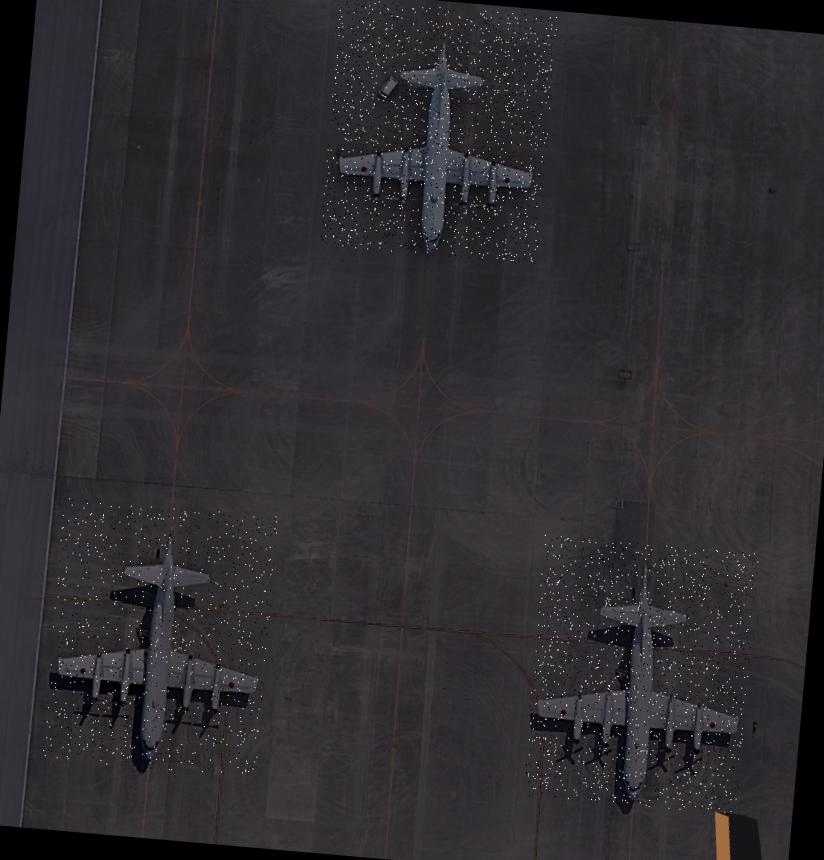A9: (41, 498, 278, 778), (522, 535, 758, 815), (318, 0, 557, 264)
